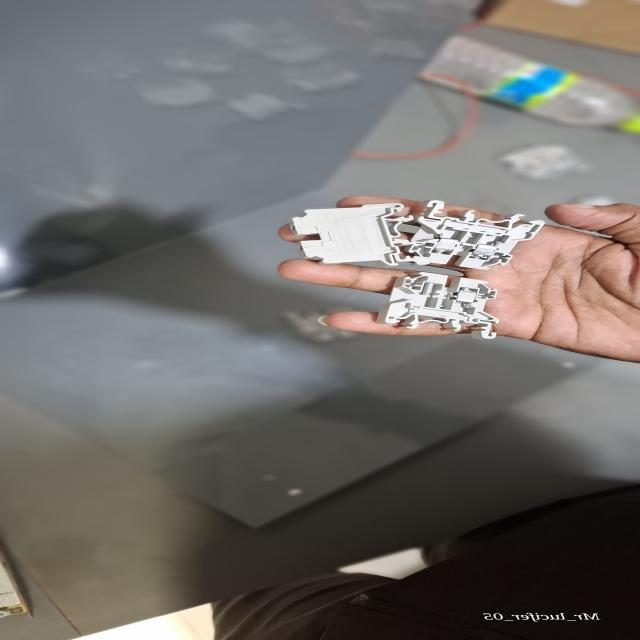Inverted: (284, 202, 404, 268)
Pass: (398, 197, 554, 270)
Reject: (366, 270, 508, 342)
